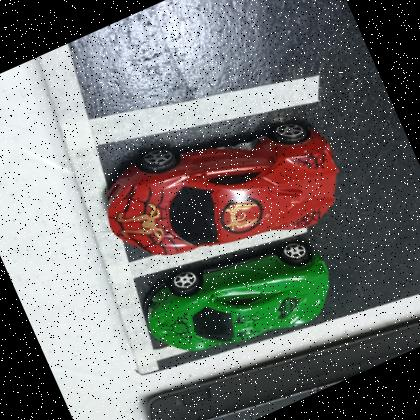Car: (104, 118, 338, 256), (142, 238, 330, 352)
